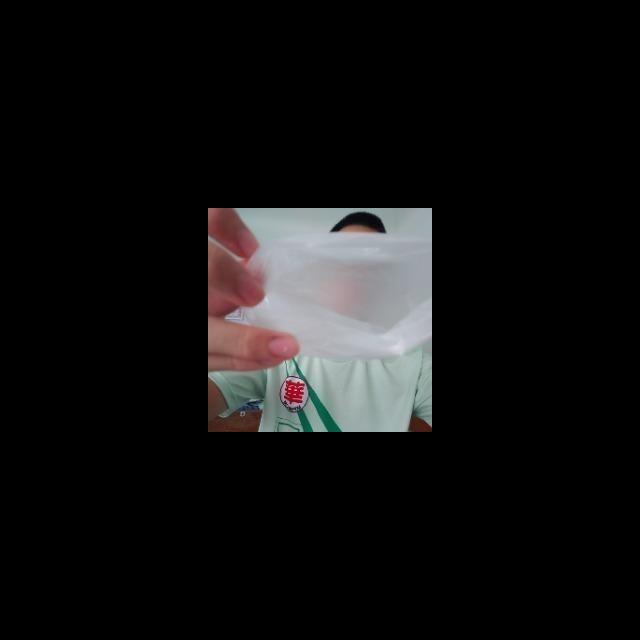plastic: (239, 232, 432, 361)
